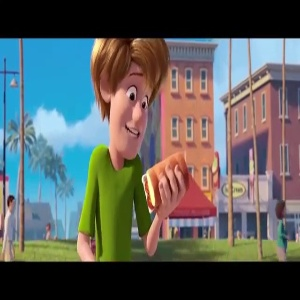Shagy: (91, 38, 162, 159)
